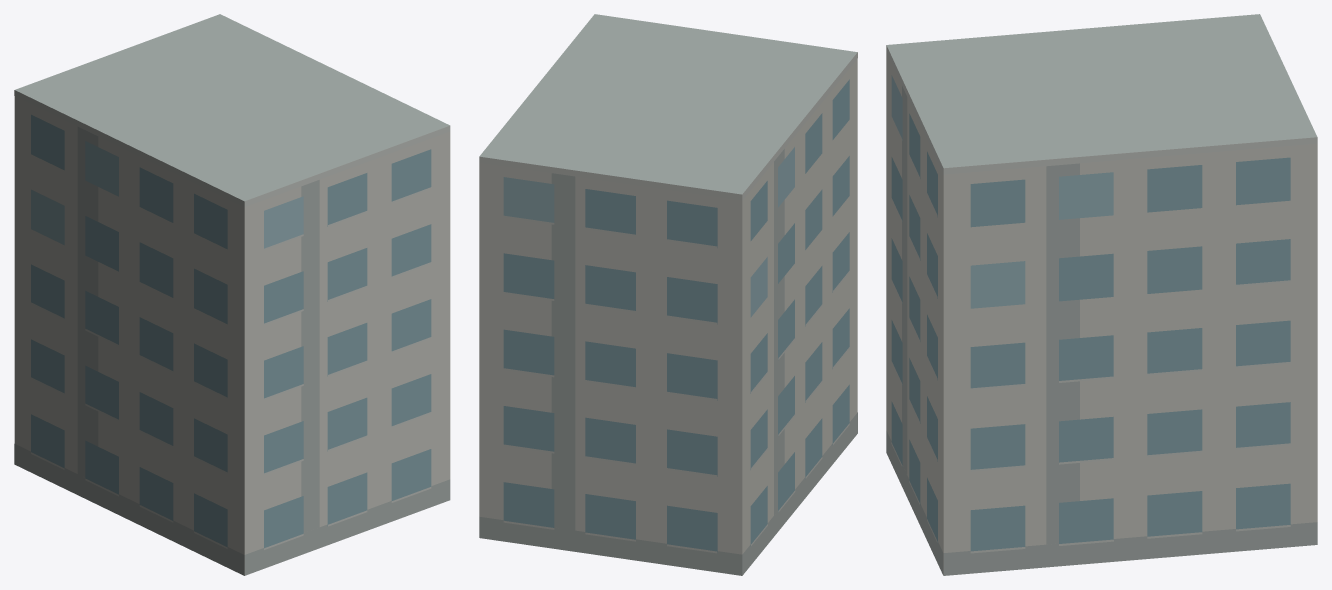
File: residential-7fc0e7ac-6ad7-44df-8da5-1fe4da07fa12.glb
The picture shows the model from 3 angles, left to right: view 1: azimuth 30°, elevation 25°; view 2: azimuth 150°, elevation 25°; view 3: azimuth 270°, elevation 25°; orthographic projection. The views are drawn at different scales.
Parts seen in each view (by area): view 1: residential-7fc0e7ac-6ad7-44df-8da5-1fe4da07fa12.tmp; view 2: residential-7fc0e7ac-6ad7-44df-8da5-1fe4da07fa12.tmp; view 3: residential-7fc0e7ac-6ad7-44df-8da5-1fe4da07fa12.tmp.
Part boxes in pixels (x1,y1,x2,y2): residential-7fc0e7ac-6ad7-44df-8da5-1fe4da07fa12.tmp: (14, 14, 450, 575); residential-7fc0e7ac-6ad7-44df-8da5-1fe4da07fa12.tmp: (479, 14, 857, 575); residential-7fc0e7ac-6ad7-44df-8da5-1fe4da07fa12.tmp: (886, 14, 1317, 575).
Bounding box in the file's own units: 12.38 × 15.25 × 14.63.
